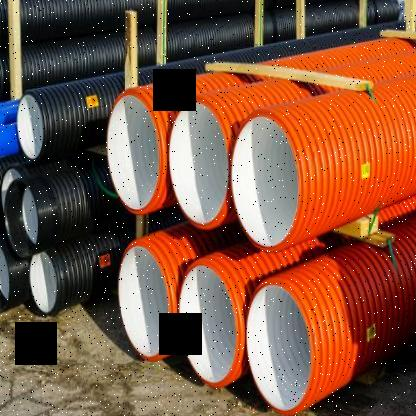pipe: (230, 113, 300, 251), (246, 283, 314, 415), (168, 100, 230, 230), (178, 264, 239, 384), (106, 91, 160, 214), (118, 244, 172, 360), (3, 178, 40, 260), (18, 92, 45, 160), (28, 251, 58, 312), (0, 243, 14, 305)
